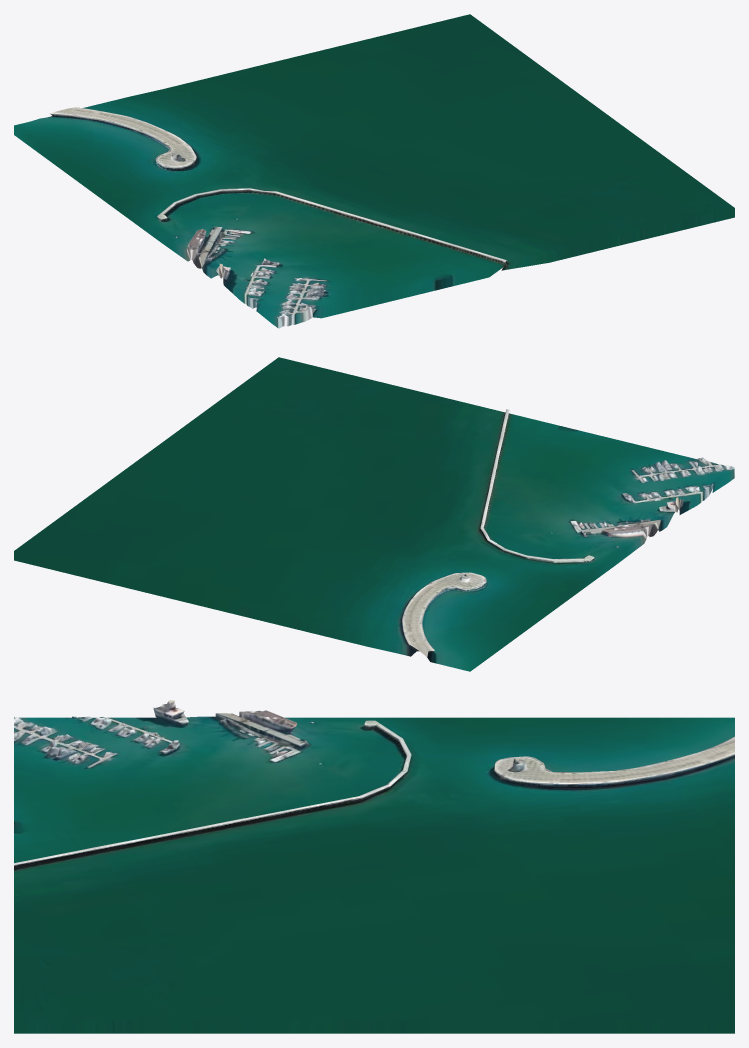
Rendered from z16-10481-25322-h0-yup-uvflip-v3-world.glb.
3 views of the same model, one above another, from view 1: azimuth 30°, elevation 25°; view 2: azimuth 150°, elevation 25°; view 3: azimuth 270°, elevation 25° (orthographic). The views are drawn at different scales.
Bounding box in the file's own units: 483 × 22.4 × 485.
1 material, 1 textured.
